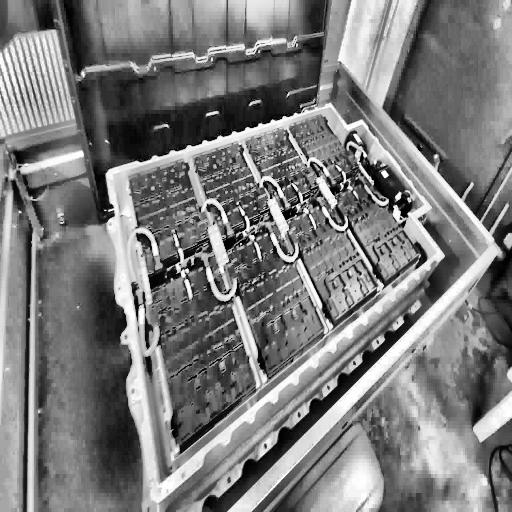high_volt_cable: (120, 222, 169, 365), (197, 194, 239, 308), (259, 173, 301, 267), (345, 140, 394, 216), (304, 155, 350, 233)
